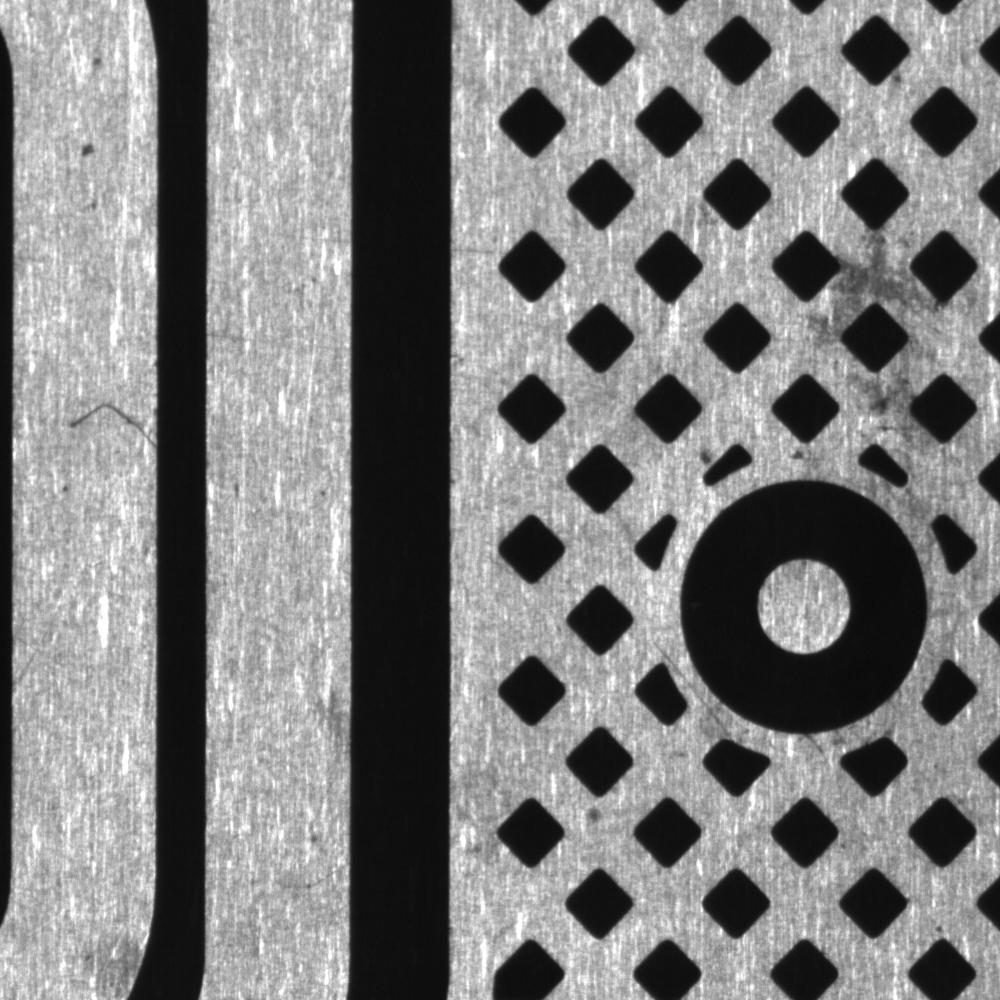Discolor: (826, 230, 923, 324), (833, 369, 916, 441)
Etching: (67, 139, 109, 217), (83, 43, 109, 77), (304, 824, 326, 848), (55, 475, 74, 498)
Scar: (9, 601, 68, 707), (206, 320, 351, 363), (61, 396, 156, 448), (246, 216, 351, 251), (262, 865, 341, 893)
